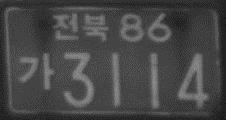1: (108, 50, 125, 109), (148, 49, 159, 111)
3: (61, 50, 96, 108)
4: (173, 49, 208, 109)
6: (147, 10, 173, 44)
8: (119, 10, 145, 43)
가: (19, 52, 53, 90)
전북_O: (51, 11, 109, 41)
